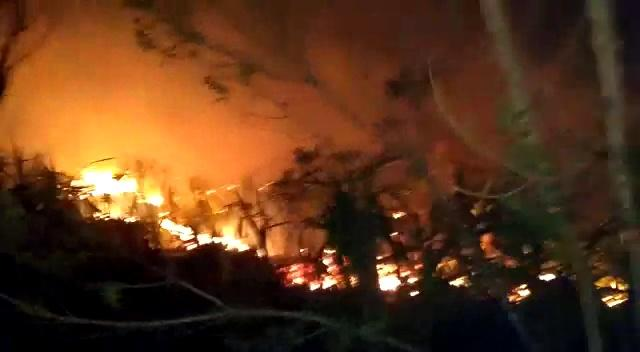fire: (75, 169, 142, 201), (373, 265, 417, 292), (163, 217, 206, 242)
